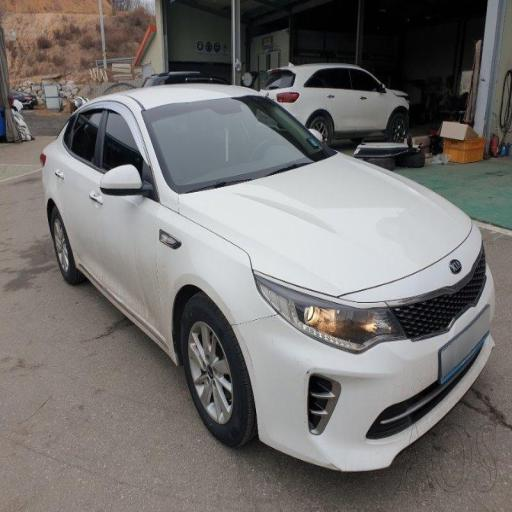normal: (34, 53, 509, 486)
